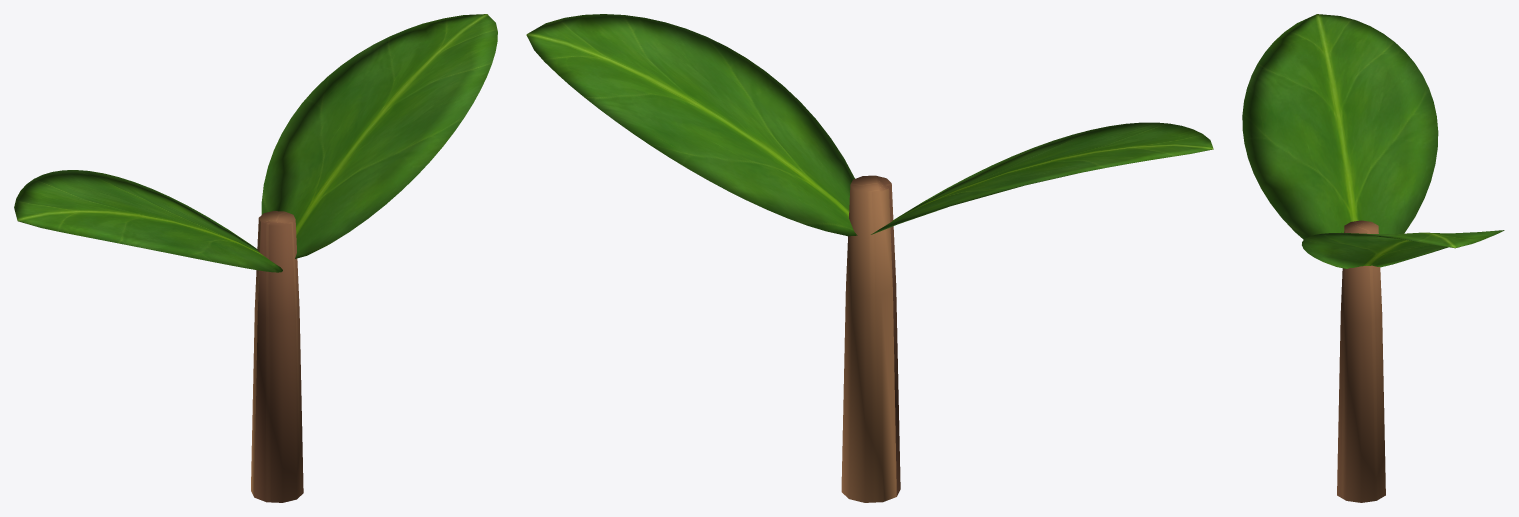
Rendered from NP_Blueberry_Sprout_LOD1.fbx.
3 renders of one model, left to right at view 1: azimuth 30°, elevation 25°; view 2: azimuth 150°, elevation 25°; view 3: azimuth 270°, elevation 25°, orthographic. The views are drawn at different scales.
Parts seen in each view (by area): view 1: NP_Blueberry_Sprout; view 2: NP_Blueberry_Sprout; view 3: NP_Blueberry_Sprout.
Boxes of the visible parts, left/top/right/bottom form: NP_Blueberry_Sprout: left=14, top=14, right=497, bottom=502; NP_Blueberry_Sprout: left=526, top=14, right=1213, bottom=502; NP_Blueberry_Sprout: left=1242, top=14, right=1504, bottom=502.
Bounding box in the file's own units: 37.71 × 25.35 × 16.37.
